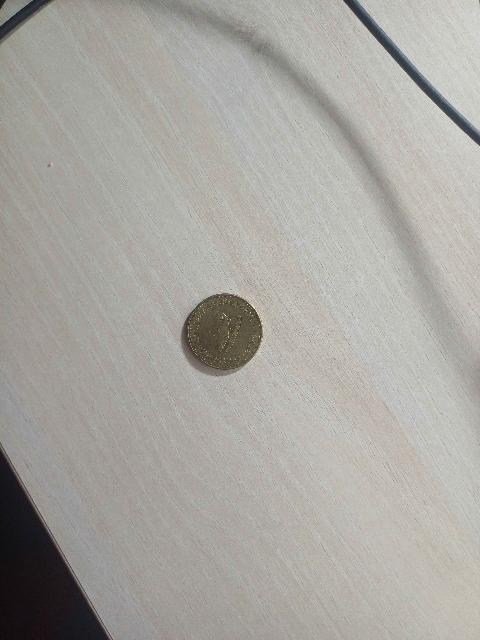coin: (188, 295, 262, 369)
